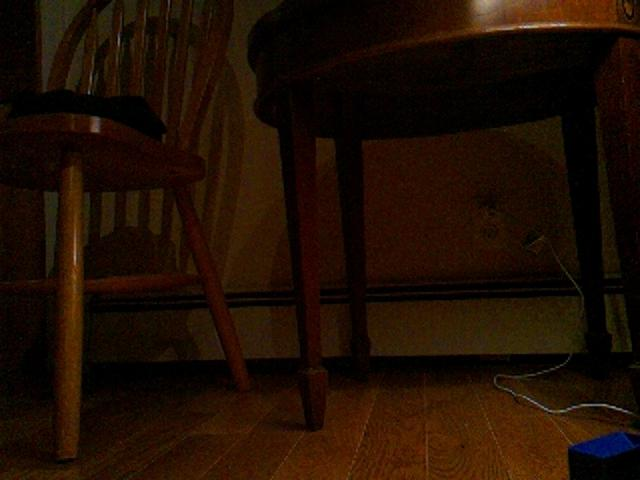blue: (566, 429, 640, 480)
